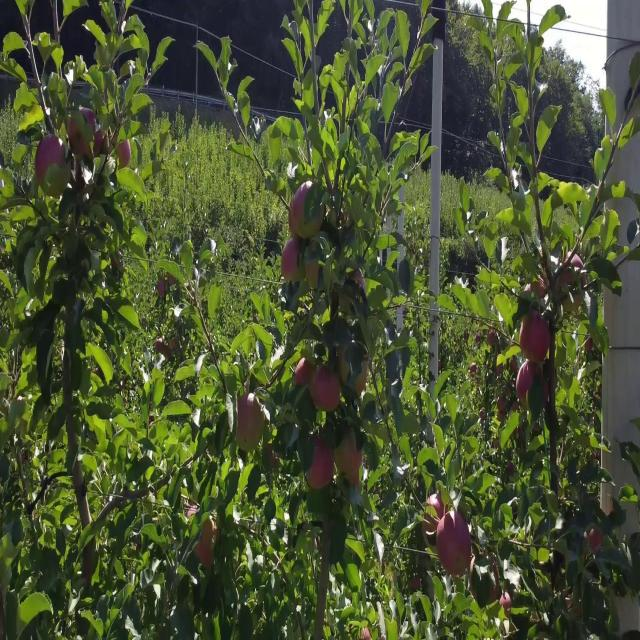apple: (436, 511, 473, 578), (236, 391, 266, 448), (296, 184, 326, 240), (520, 312, 552, 363), (336, 433, 365, 489), (36, 135, 67, 187), (308, 433, 335, 491), (68, 106, 97, 158), (516, 362, 550, 405), (312, 369, 342, 412), (196, 519, 219, 569), (560, 255, 587, 295), (488, 575, 512, 617), (516, 362, 538, 404), (284, 241, 300, 283), (156, 334, 178, 363), (428, 490, 447, 523), (296, 355, 314, 388), (116, 135, 132, 171), (92, 127, 108, 160), (356, 362, 369, 398), (528, 277, 549, 299), (156, 277, 177, 299), (304, 263, 321, 290), (600, 490, 616, 517), (288, 213, 302, 240), (568, 597, 583, 619), (588, 533, 604, 553), (504, 590, 512, 617), (584, 341, 595, 356)
